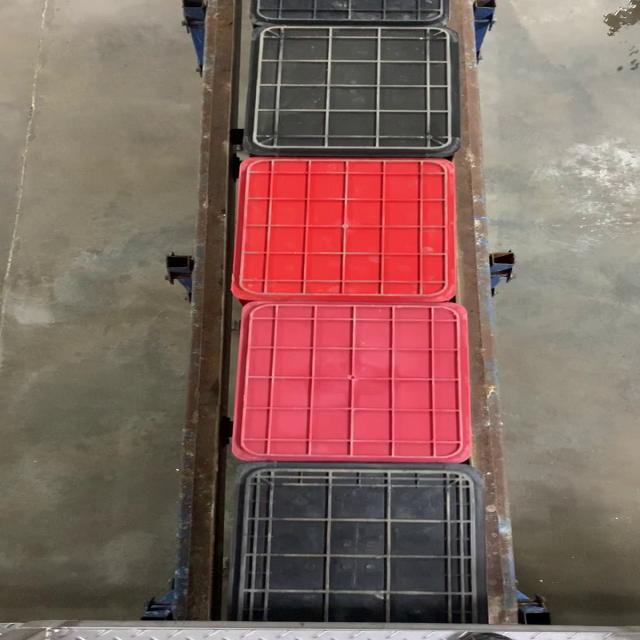Box: (231, 303, 469, 463), (232, 158, 460, 303), (245, 22, 460, 158)
